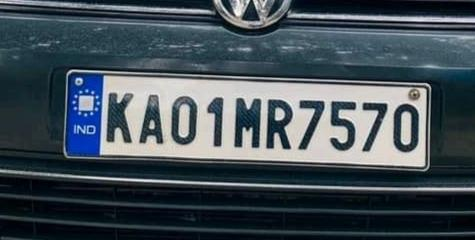0: (168, 91, 199, 147), (392, 99, 421, 154)
1: (204, 92, 223, 150)
5: (327, 97, 359, 153)
7: (296, 96, 326, 152), (361, 97, 389, 154)
A: (137, 90, 165, 147)
K: (105, 89, 136, 146)
M: (232, 92, 263, 152)
R: (265, 93, 294, 155)
